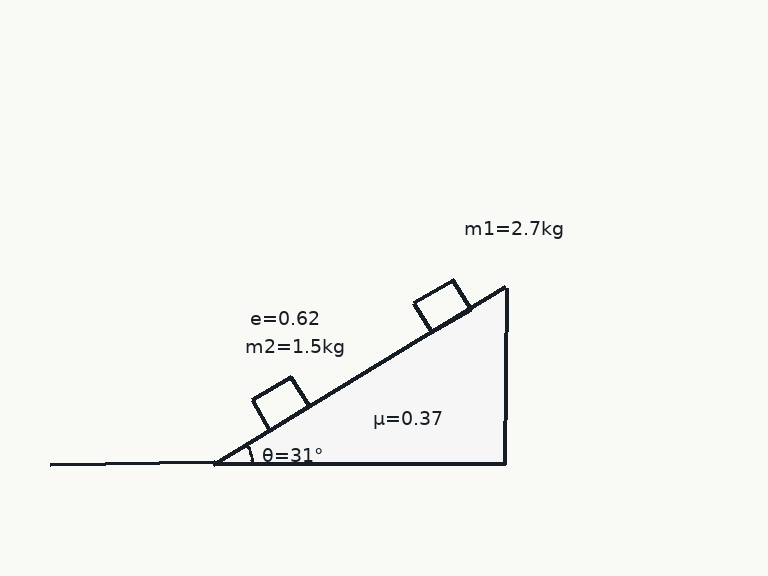block: (250, 374, 311, 432), (411, 278, 472, 335)
ramp: (210, 286, 507, 466)
